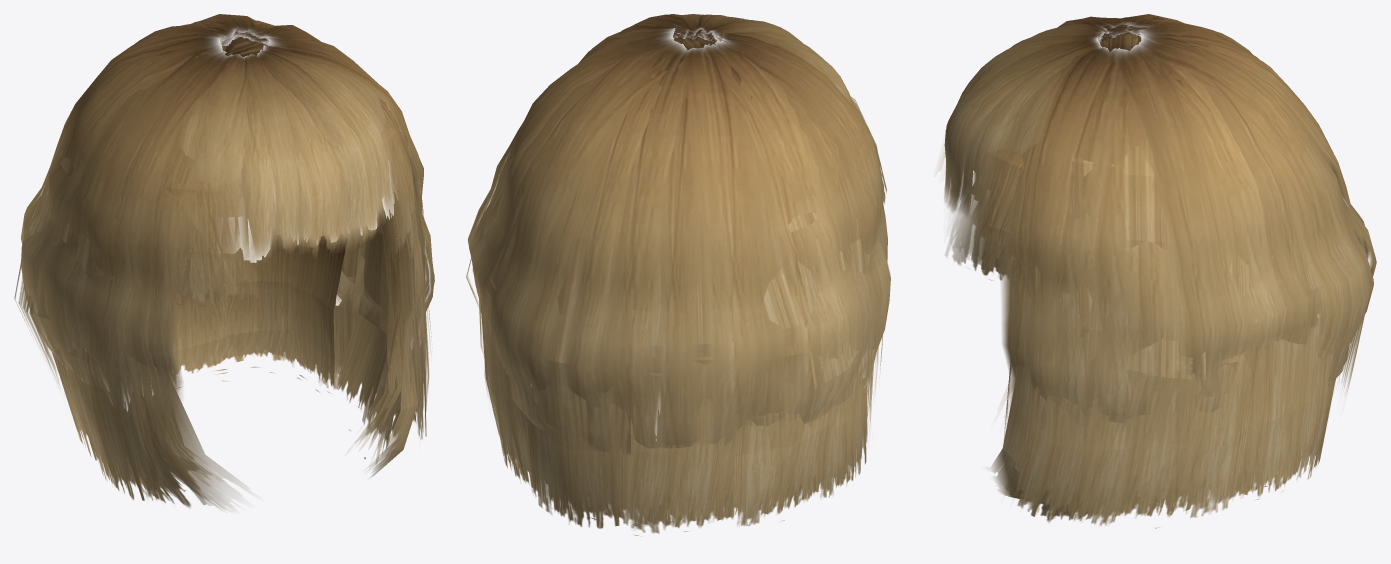
File: mh_witchy_lil_bob.glb
The picture shows the model from 3 angles, left to right: view 1: azimuth 30°, elevation 25°; view 2: azimuth 150°, elevation 25°; view 3: azimuth 270°, elevation 25°; orthographic projection. The views are drawn at different scales.
Visible parts, largest first — view 1: locks, hair; view 2: locks, hair; view 3: locks, hair.
Boxes of the visible parts, x1,y1,x2,y2 form: locks: (21, 14, 434, 415); hair: (14, 37, 431, 511); locks: (468, 14, 890, 454); hair: (466, 37, 886, 535); locks: (944, 14, 1376, 430); hair: (938, 31, 1364, 528).
Bounding box in the file's own units: 23.98 × 28.53 × 25.39.
2 materials, 2 textured.
